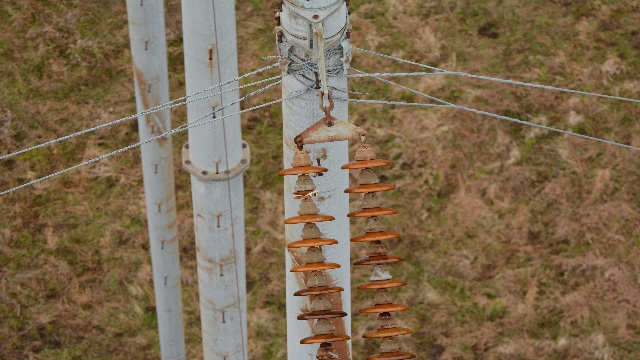broken_local: (289, 188, 321, 200)
insulator_unspecified: (277, 154, 417, 359)
